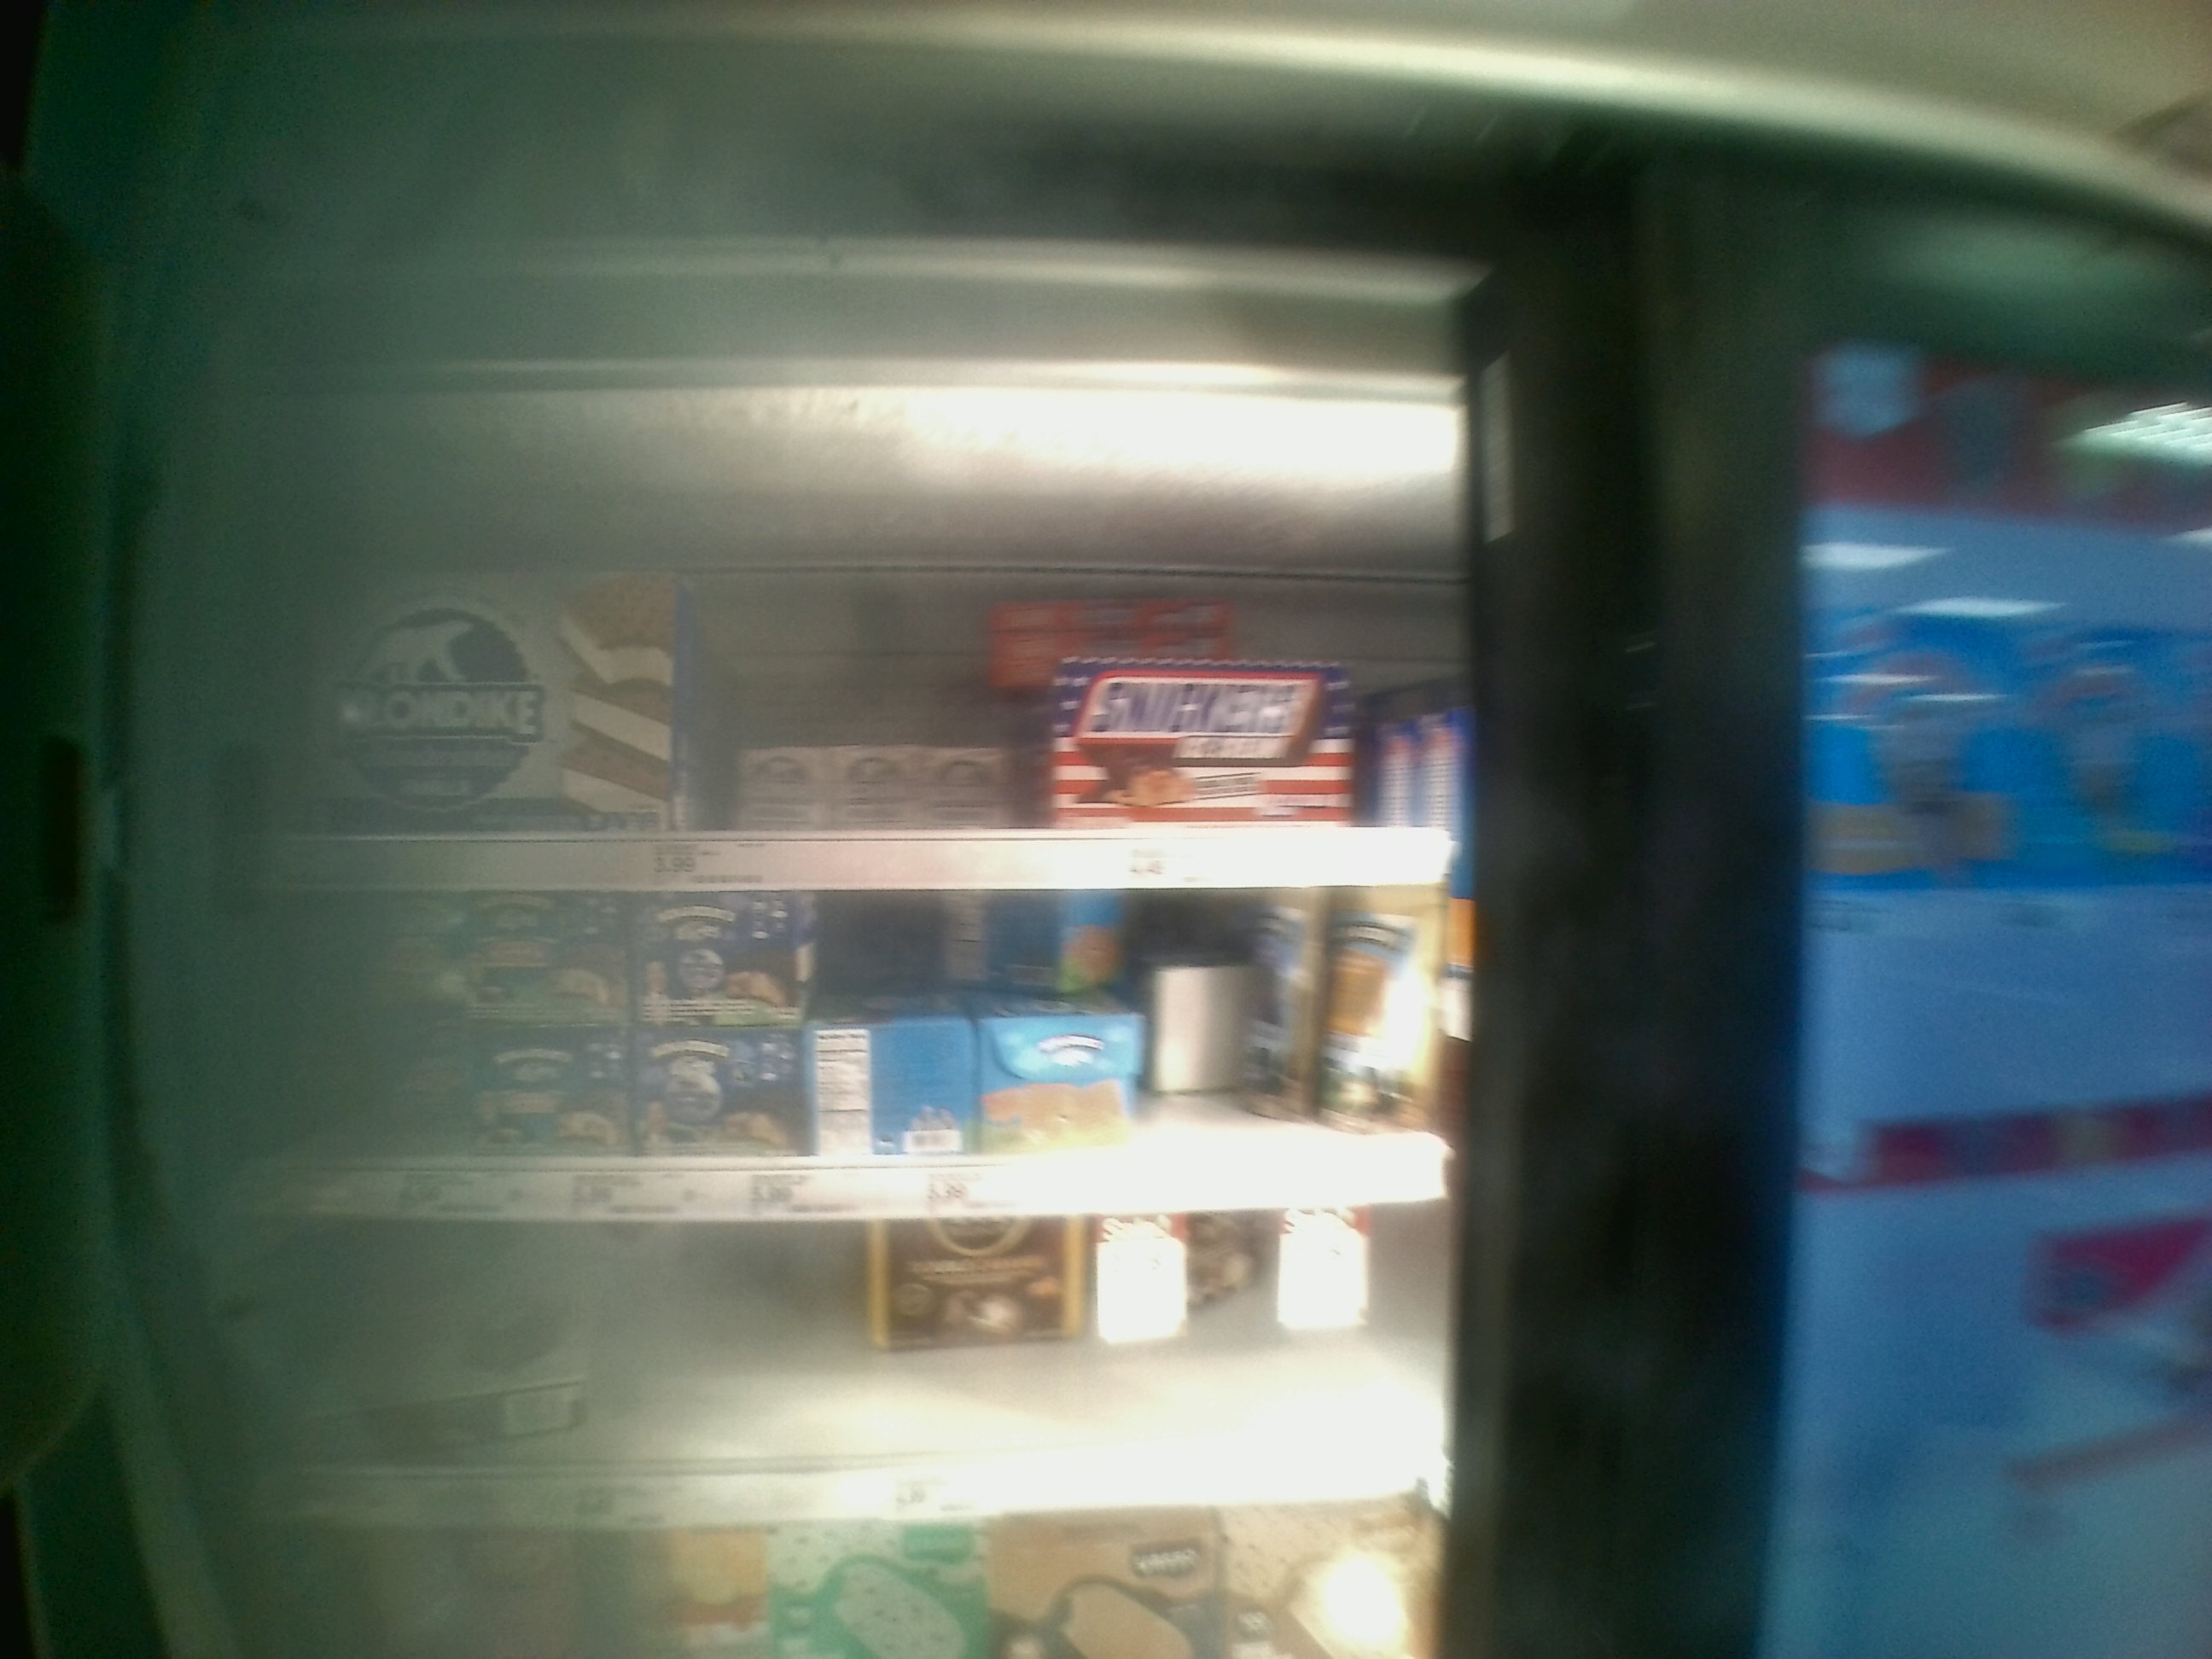shelf: (218, 481, 1468, 884), (211, 878, 1468, 1208), (204, 1206, 1458, 1521)
